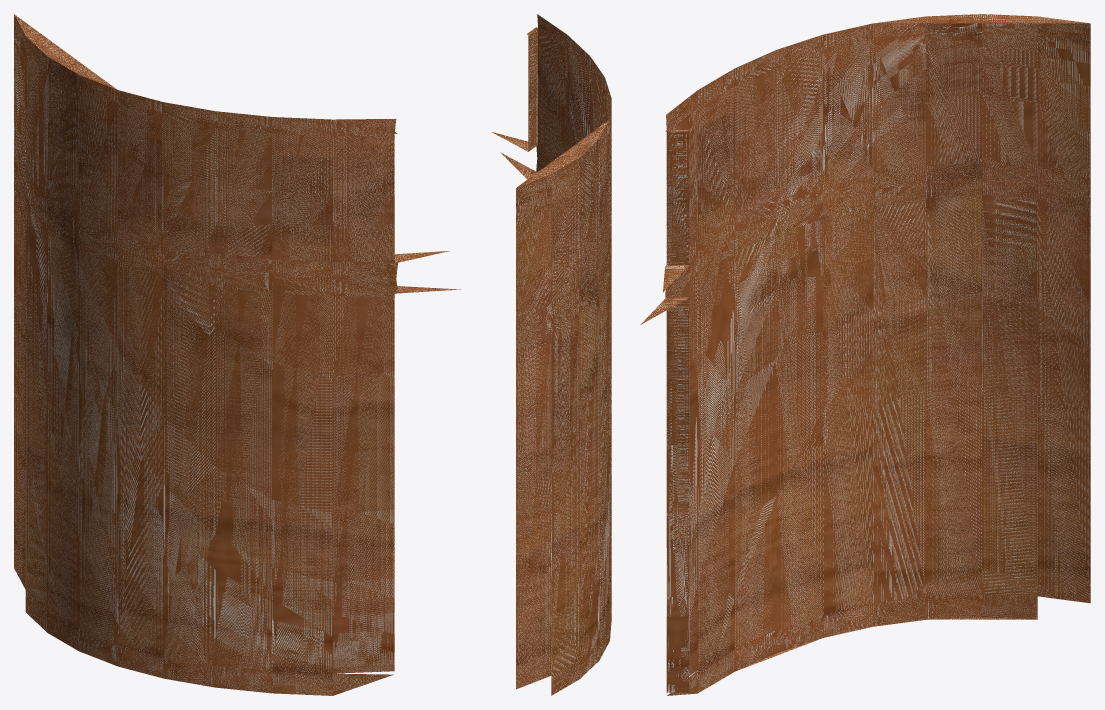
3 renders of one model, left to right at view 1: azimuth 30°, elevation 25°; view 2: azimuth 150°, elevation 25°; view 3: azimuth 270°, elevation 25°, orthographic. The views are drawn at different scales.
Bounding box in the file's own units: 0.382 × 0.838 × 0.5672.
